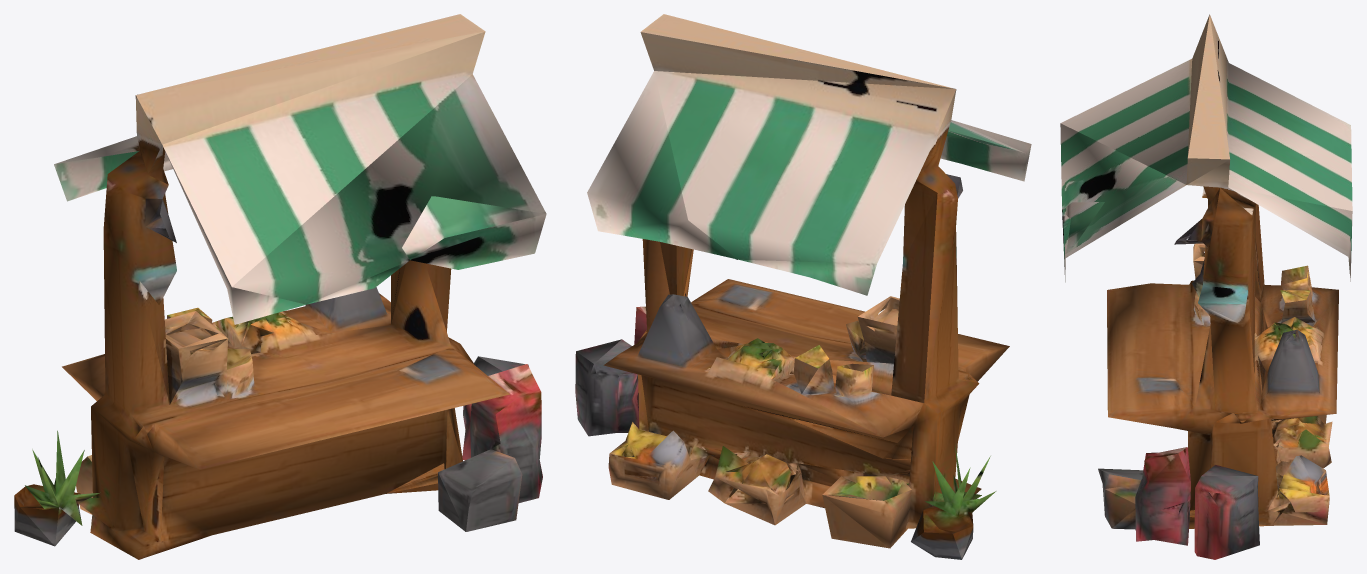
File: awning_stall_5_1500.glb
3 renders of one model, left to right at view 1: azimuth 30°, elevation 25°; view 2: azimuth 150°, elevation 25°; view 3: azimuth 270°, elevation 25°, orthographic. The views are drawn at different scales.
Parts seen in each view (by area): view 1: t1500; view 2: t1500; view 3: t1500.
Boxes of the visible parts, x1=… form: t1500: x1=14, y1=14, x2=546, y2=559; t1500: x1=575, y1=14, x2=1031, y2=559; t1500: x1=1060, y1=14, x2=1352, y2=559.
Bounding box in the file's own units: 1.86 × 1.73 × 1.18.
Materials: 1 (1 with a texture image).
